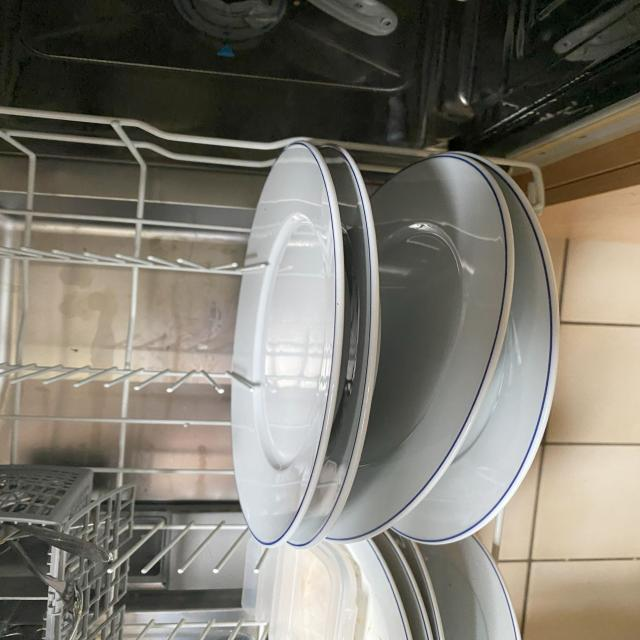empty_slot: (10, 137, 229, 493)
